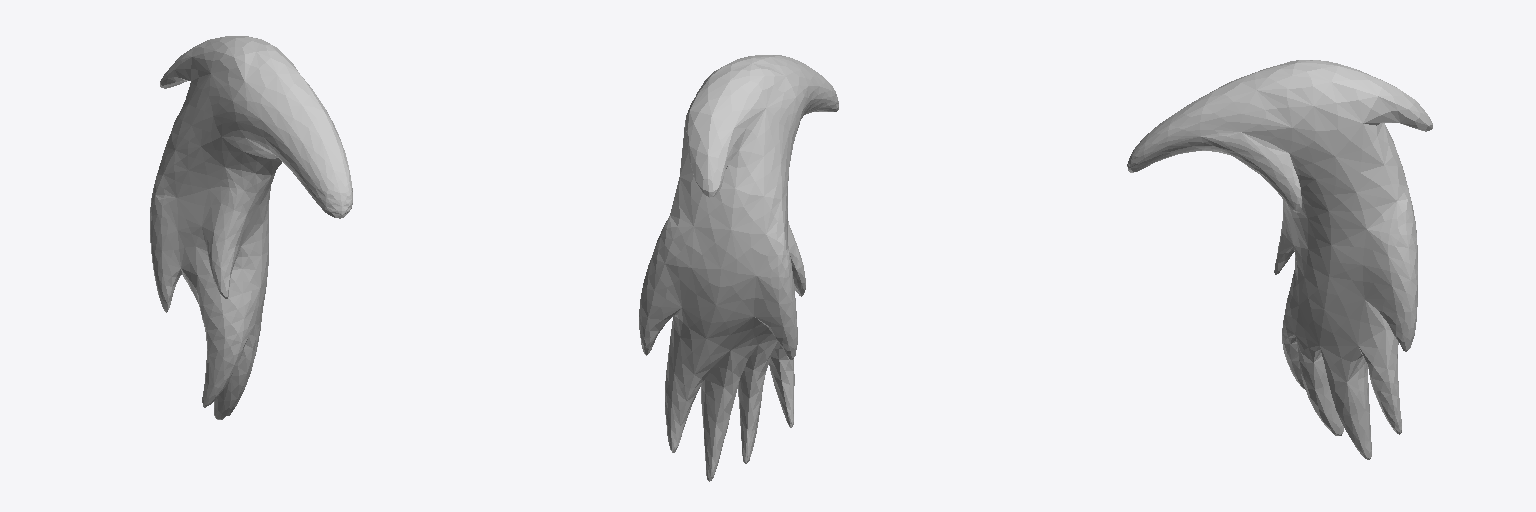
Rendered from Anthro tail.obj.
The picture shows the model from 3 angles: view 1: azimuth 30°, elevation 25°; view 2: azimuth 150°, elevation 25°; view 3: azimuth 270°, elevation 25°; orthographic projection.
Parts seen in each view (by area): view 1: tail_08.001; view 2: tail_08.001; view 3: tail_08.001.
Part boxes in pixels (x1,y1,x2,y2): tail_08.001: (150, 36, 352, 419); tail_08.001: (639, 55, 838, 481); tail_08.001: (1127, 60, 1432, 459).
Bounding box in the file's own units: 27.37 × 80.04 × 56.32.